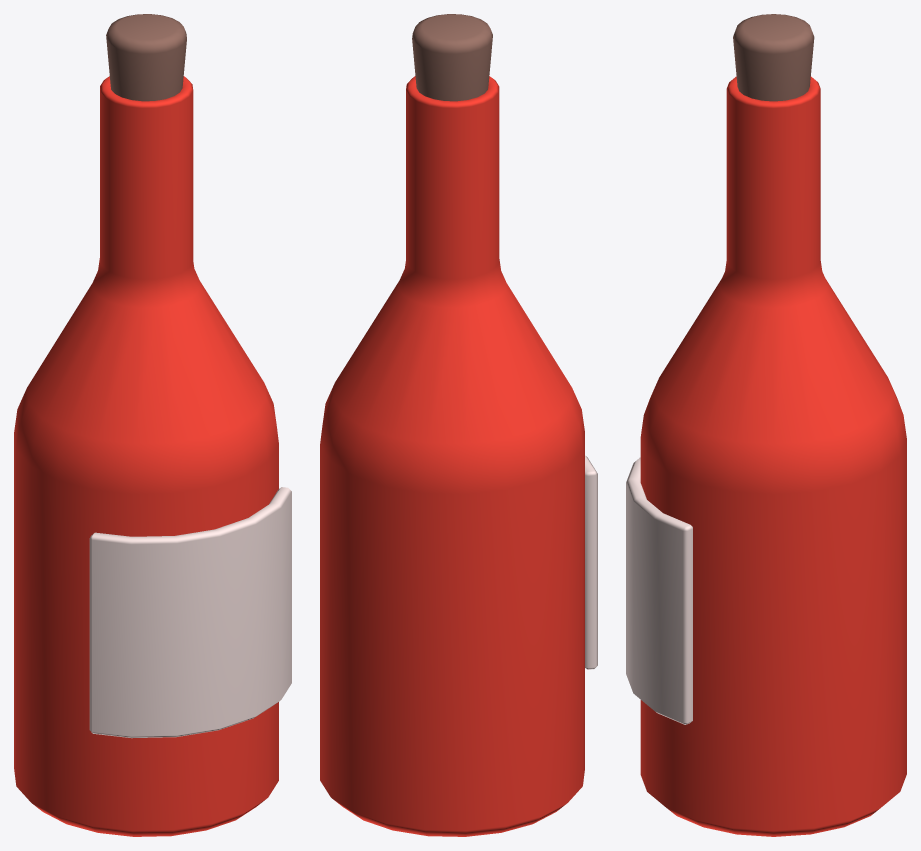
Rendered from Store_20_Bottle_of_Wine_1.glb.
The picture shows the model from 3 angles, left to right: view 1: azimuth 30°, elevation 25°; view 2: azimuth 150°, elevation 25°; view 3: azimuth 270°, elevation 25°; orthographic projection.
Parts seen in each view (by area): view 1: Store_20_Bottle_of_Wine_1; view 2: Store_20_Bottle_of_Wine_1; view 3: Store_20_Bottle_of_Wine_1.
Boxes of the visible parts, x1,y1,x2,y2 form: Store_20_Bottle_of_Wine_1: [14, 14, 291, 836]; Store_20_Bottle_of_Wine_1: [320, 14, 597, 836]; Store_20_Bottle_of_Wine_1: [626, 14, 906, 836].
Bounding box in the file's own units: 0.154 × 0.4845 × 0.1624.
1 material, 1 textured.
